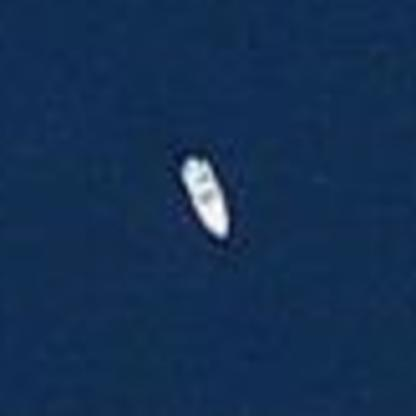ship: (166, 141, 242, 251)
